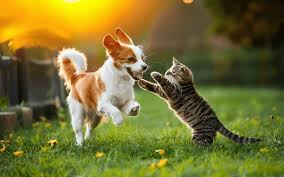cat: (139, 58, 263, 146)
dog: (57, 28, 148, 148)
